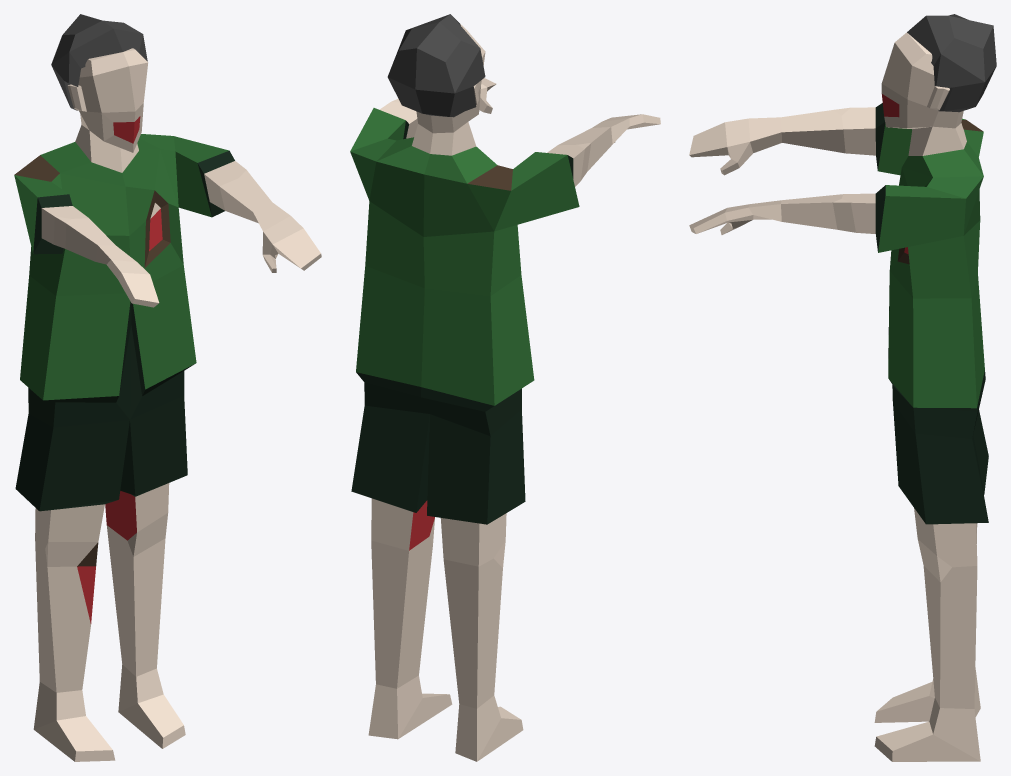
Rendered from man-zombie.fbx.
3 views of the same model, side by side, from view 1: azimuth 30°, elevation 25°; view 2: azimuth 150°, elevation 25°; view 3: azimuth 270°, elevation 25° (orthographic).
Visible parts, largest first — view 1: man-zombie; view 2: man-zombie; view 3: man-zombie.
Boxes of the visible parts, x1,y1,x2,y2 form: man-zombie: (14,14,321,761); man-zombie: (350,14,660,761); man-zombie: (689,14,996,761).
Bounding box in the file's own units: 0.5642 × 1.83 × 0.7108.
